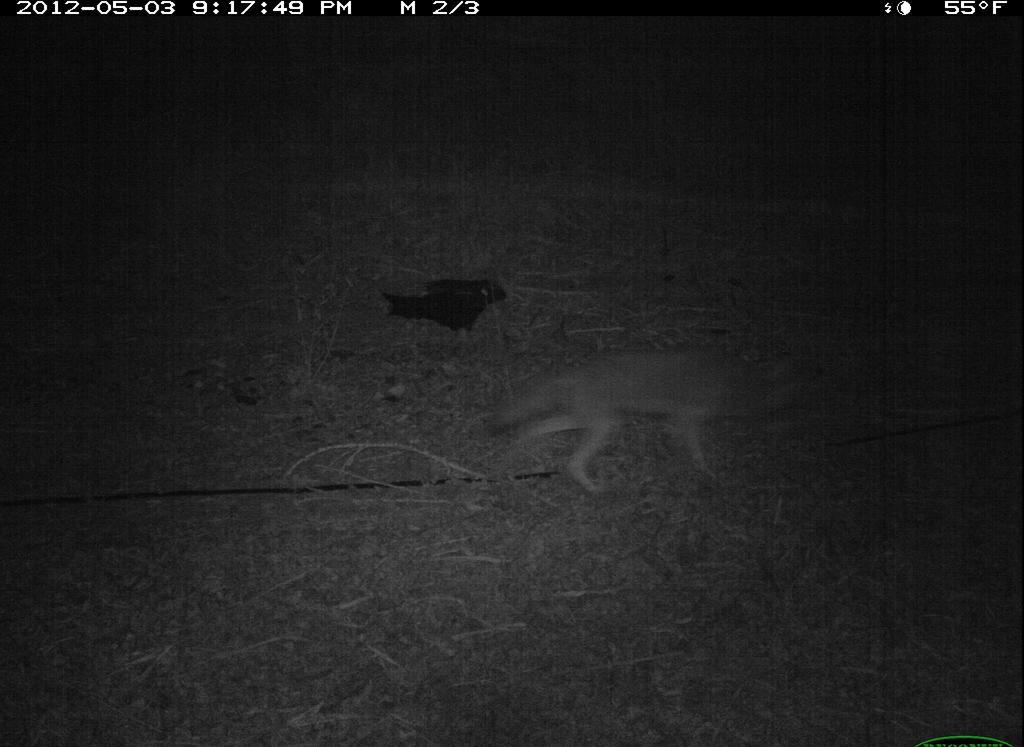coyote: (477, 329, 809, 505)
